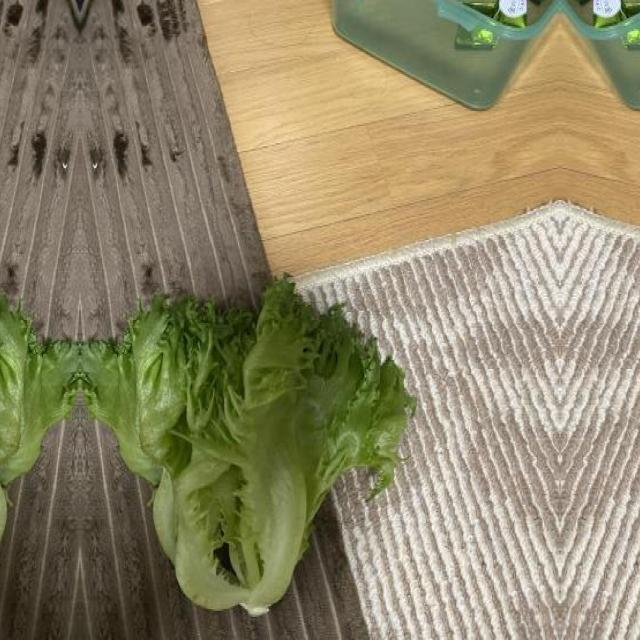healthy: (80, 270, 418, 614), (0, 270, 79, 614)
